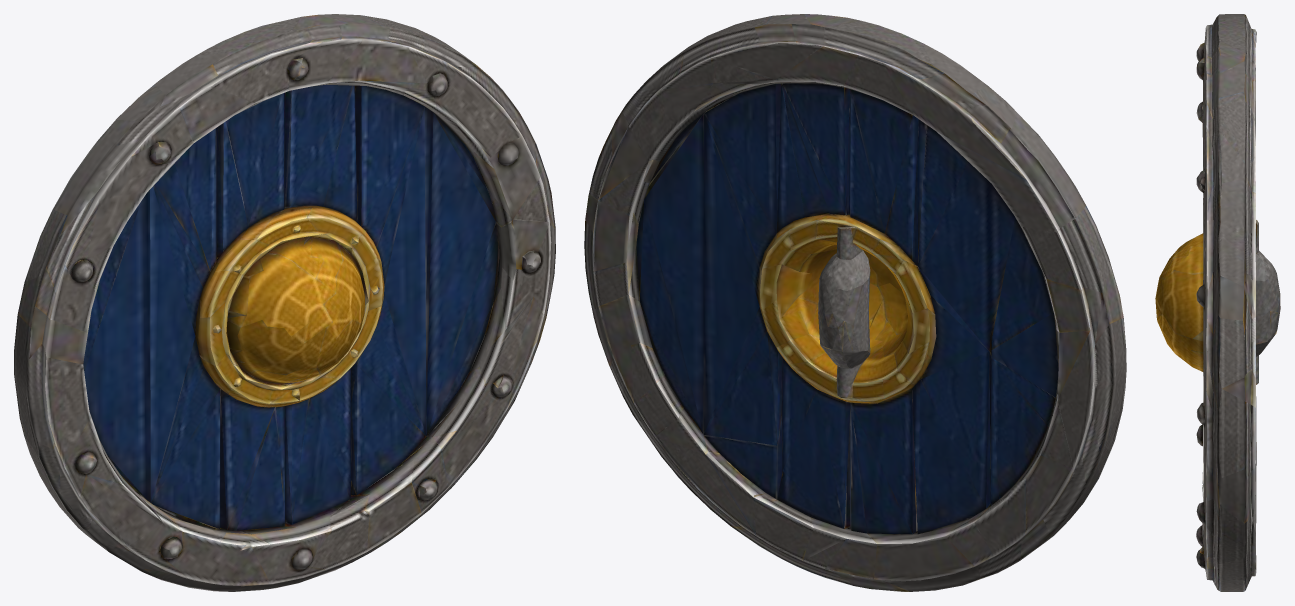
Rendered from steadfast_shield.glb.
3 renders of one model, left to right at view 1: azimuth 30°, elevation 25°; view 2: azimuth 150°, elevation 25°; view 3: azimuth 270°, elevation 25°, orthographic. The views are drawn at different scales.
Size of the model in its own units: 0.8824 by 0.8828 by 0.1909.
Materials: 1 (1 with a texture image).
